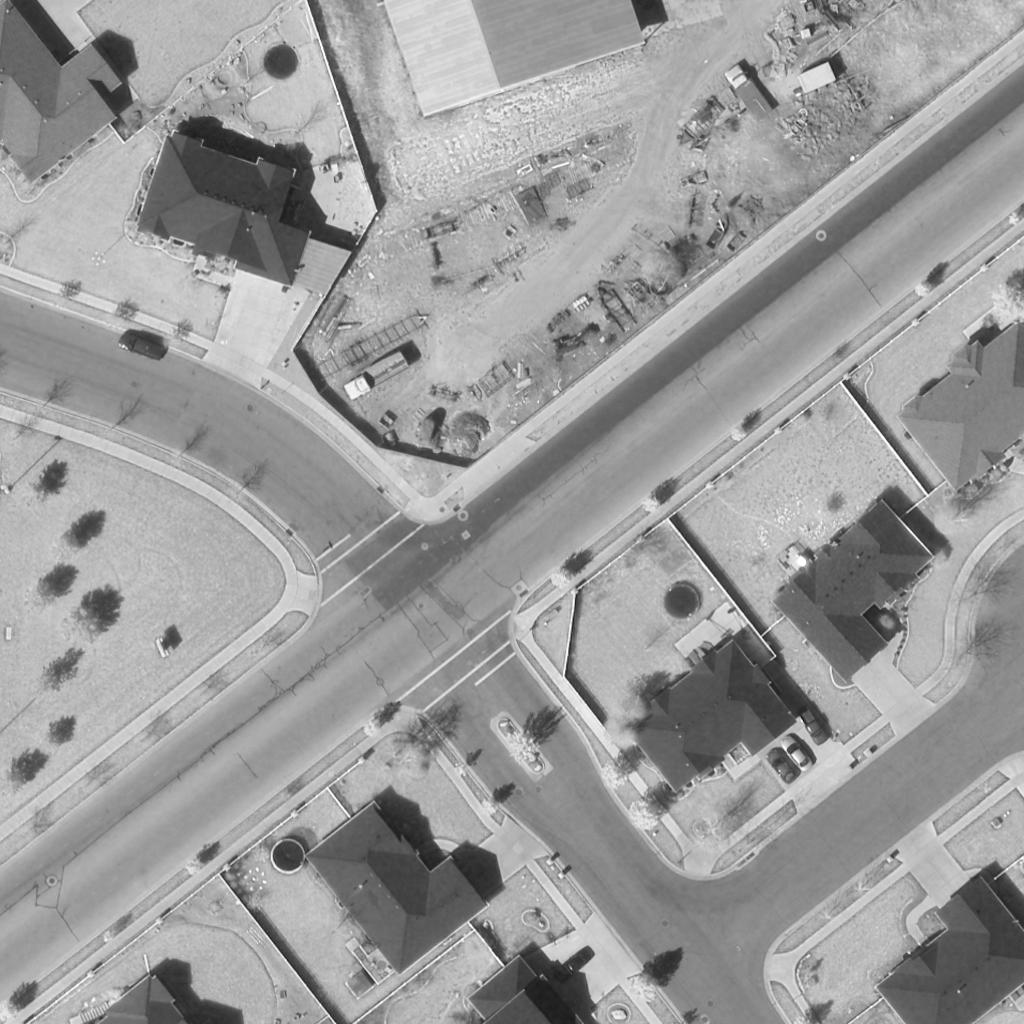vehicle: (342, 352, 410, 402), (722, 63, 774, 123), (115, 331, 167, 363), (550, 949, 592, 985), (779, 735, 815, 773), (797, 706, 829, 746), (765, 748, 797, 786)
